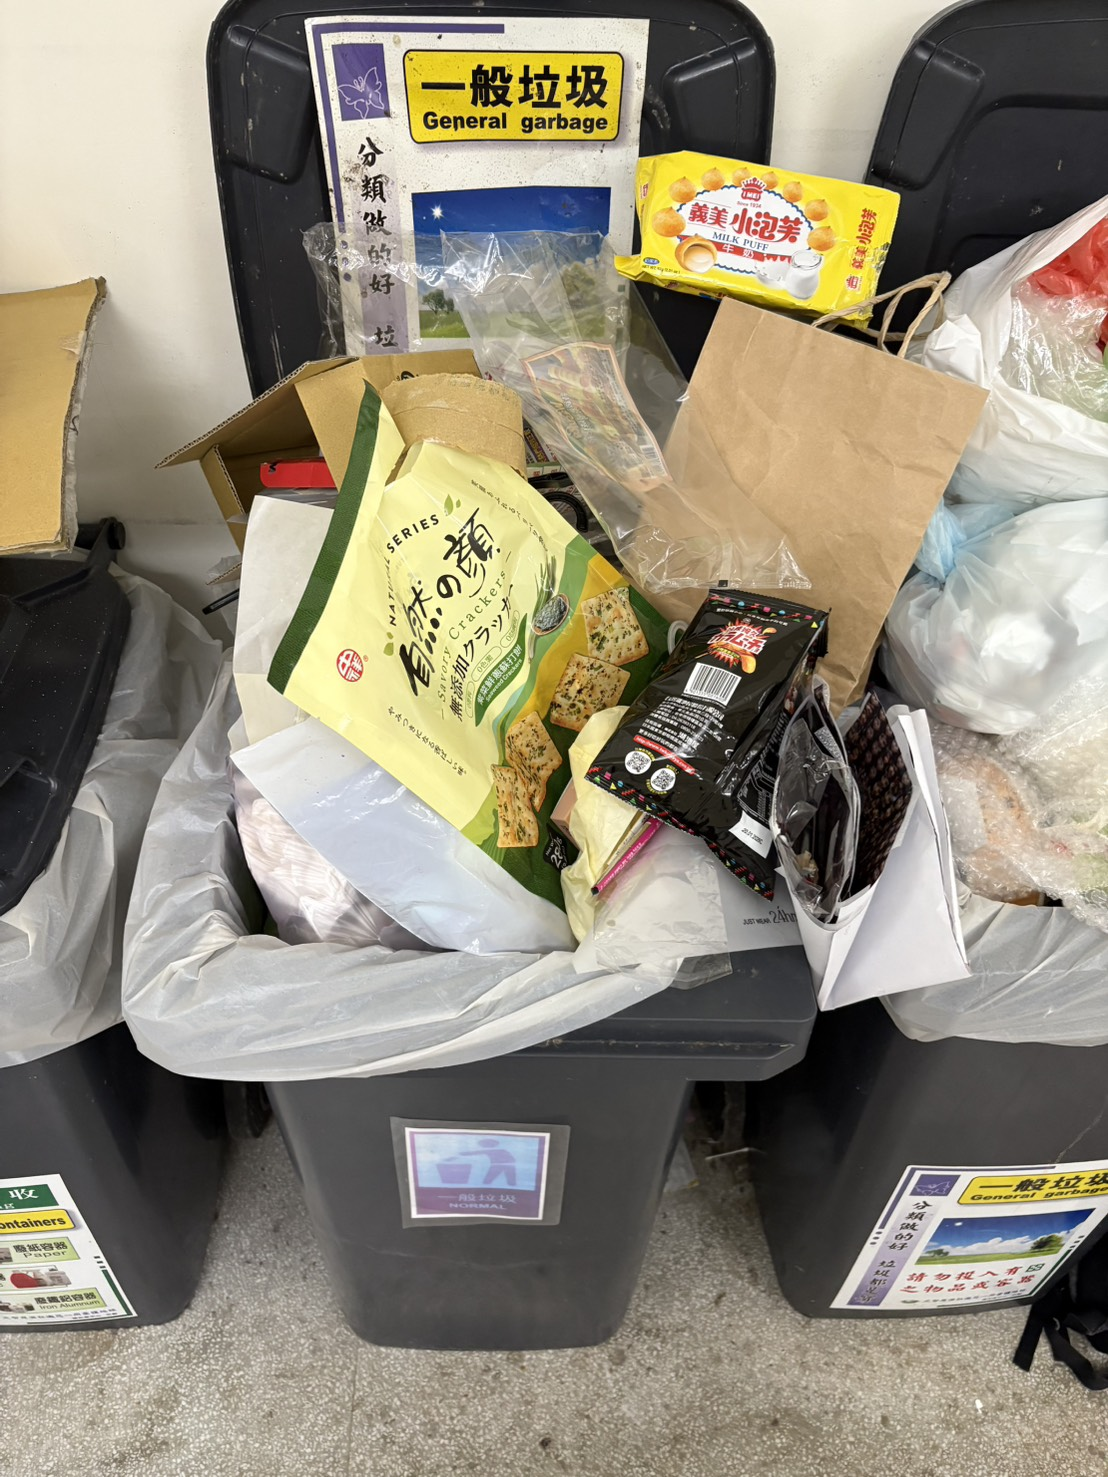overflow_bin: (159, 13, 895, 1335)
